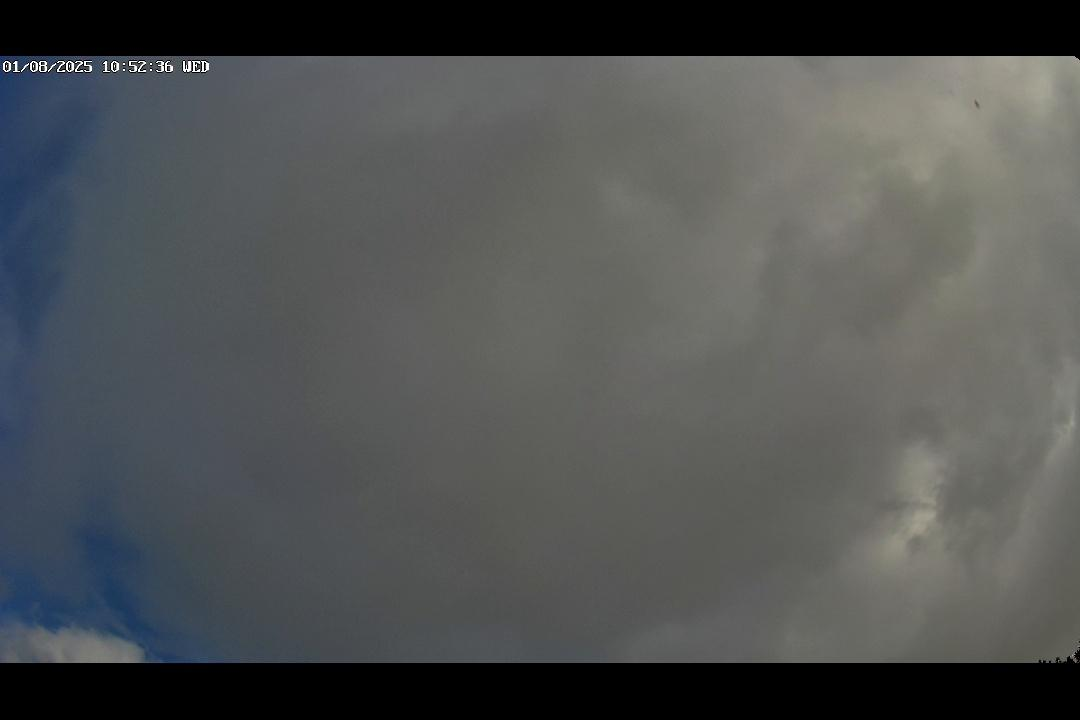WildLife: (959, 92, 994, 116)
